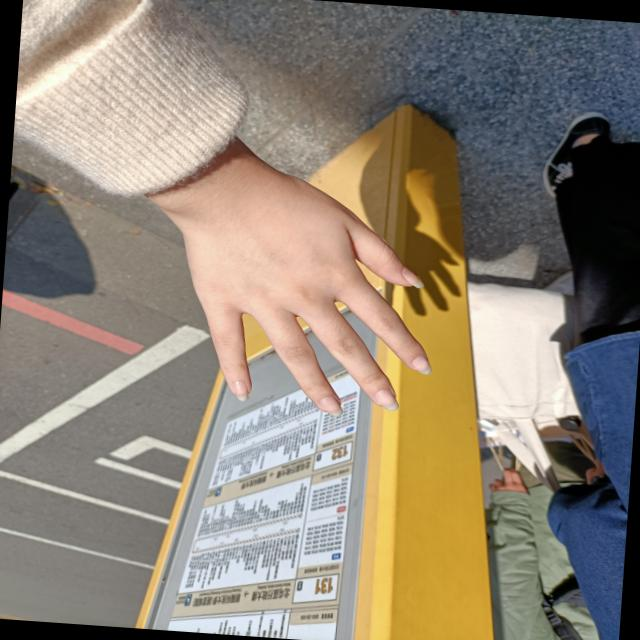Nail: (373, 388, 397, 410), (317, 395, 342, 415), (400, 266, 423, 287), (411, 355, 431, 373), (232, 380, 248, 400)
